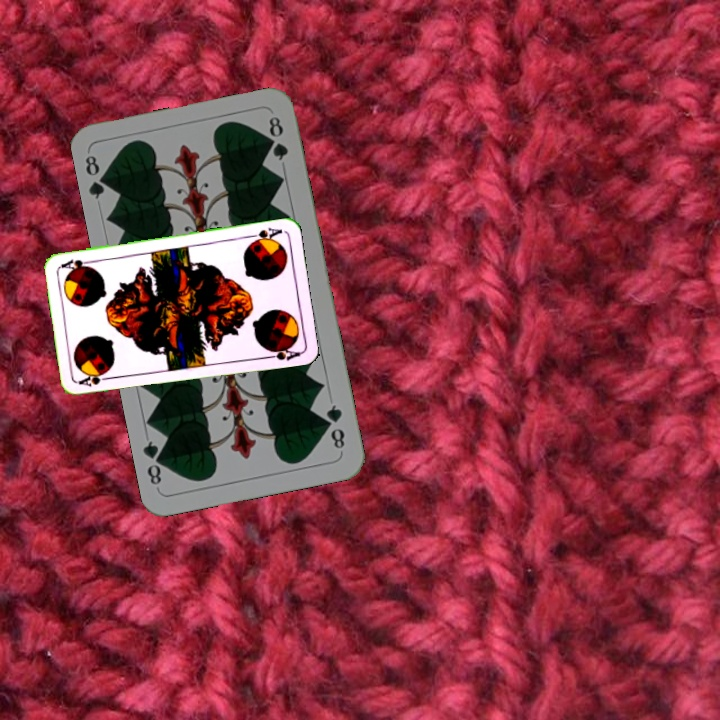G8: (81, 151, 113, 202), (321, 400, 348, 452)
SA: (244, 223, 285, 246), (75, 369, 115, 389)
